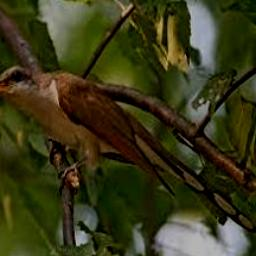Cuckoo: (0, 66, 256, 233)
